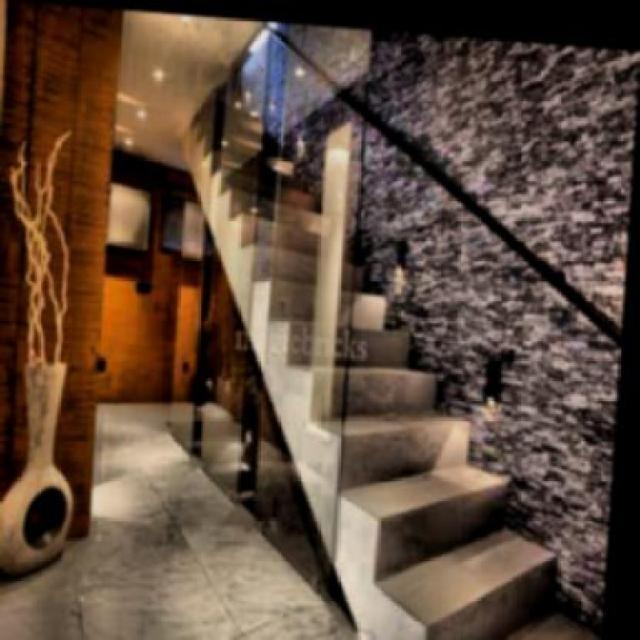stair: (164, 59, 622, 638)
